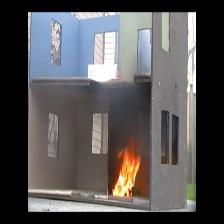fire: (108, 149, 141, 199)
smoke: (112, 88, 145, 125)
